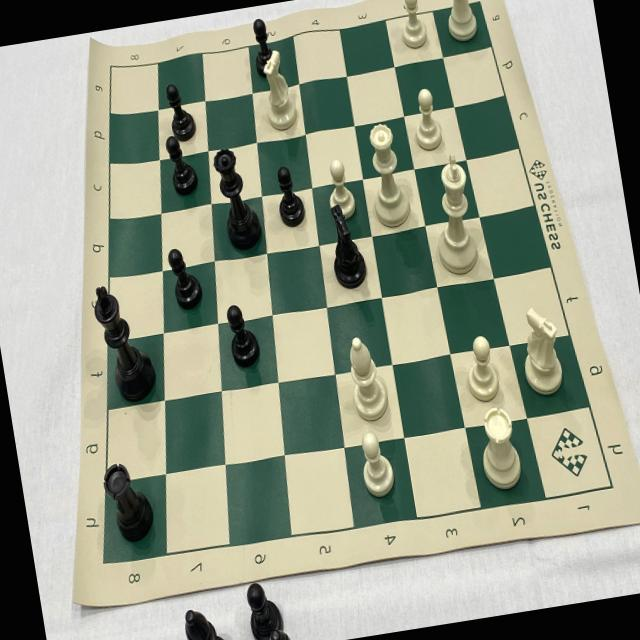black-king: (88, 274, 158, 411)
black-knight: (319, 200, 375, 295)
black-pawn: (217, 296, 267, 378), (268, 154, 312, 233), (163, 244, 207, 316), (160, 74, 202, 148), (162, 126, 204, 200), (244, 12, 282, 84)
black-queen: (208, 139, 268, 258)
black-rook: (97, 453, 160, 550)
white-bishop: (340, 326, 398, 426)
white-king: (421, 148, 488, 284)
white-knight: (512, 298, 574, 402), (252, 38, 308, 139)
white-pawn: (457, 328, 508, 408), (351, 426, 400, 505), (406, 80, 450, 158), (318, 153, 362, 222), (391, 0, 433, 51)
white-queen: (357, 111, 418, 236)
white-rook: (464, 400, 532, 501), (437, 0, 486, 47)
